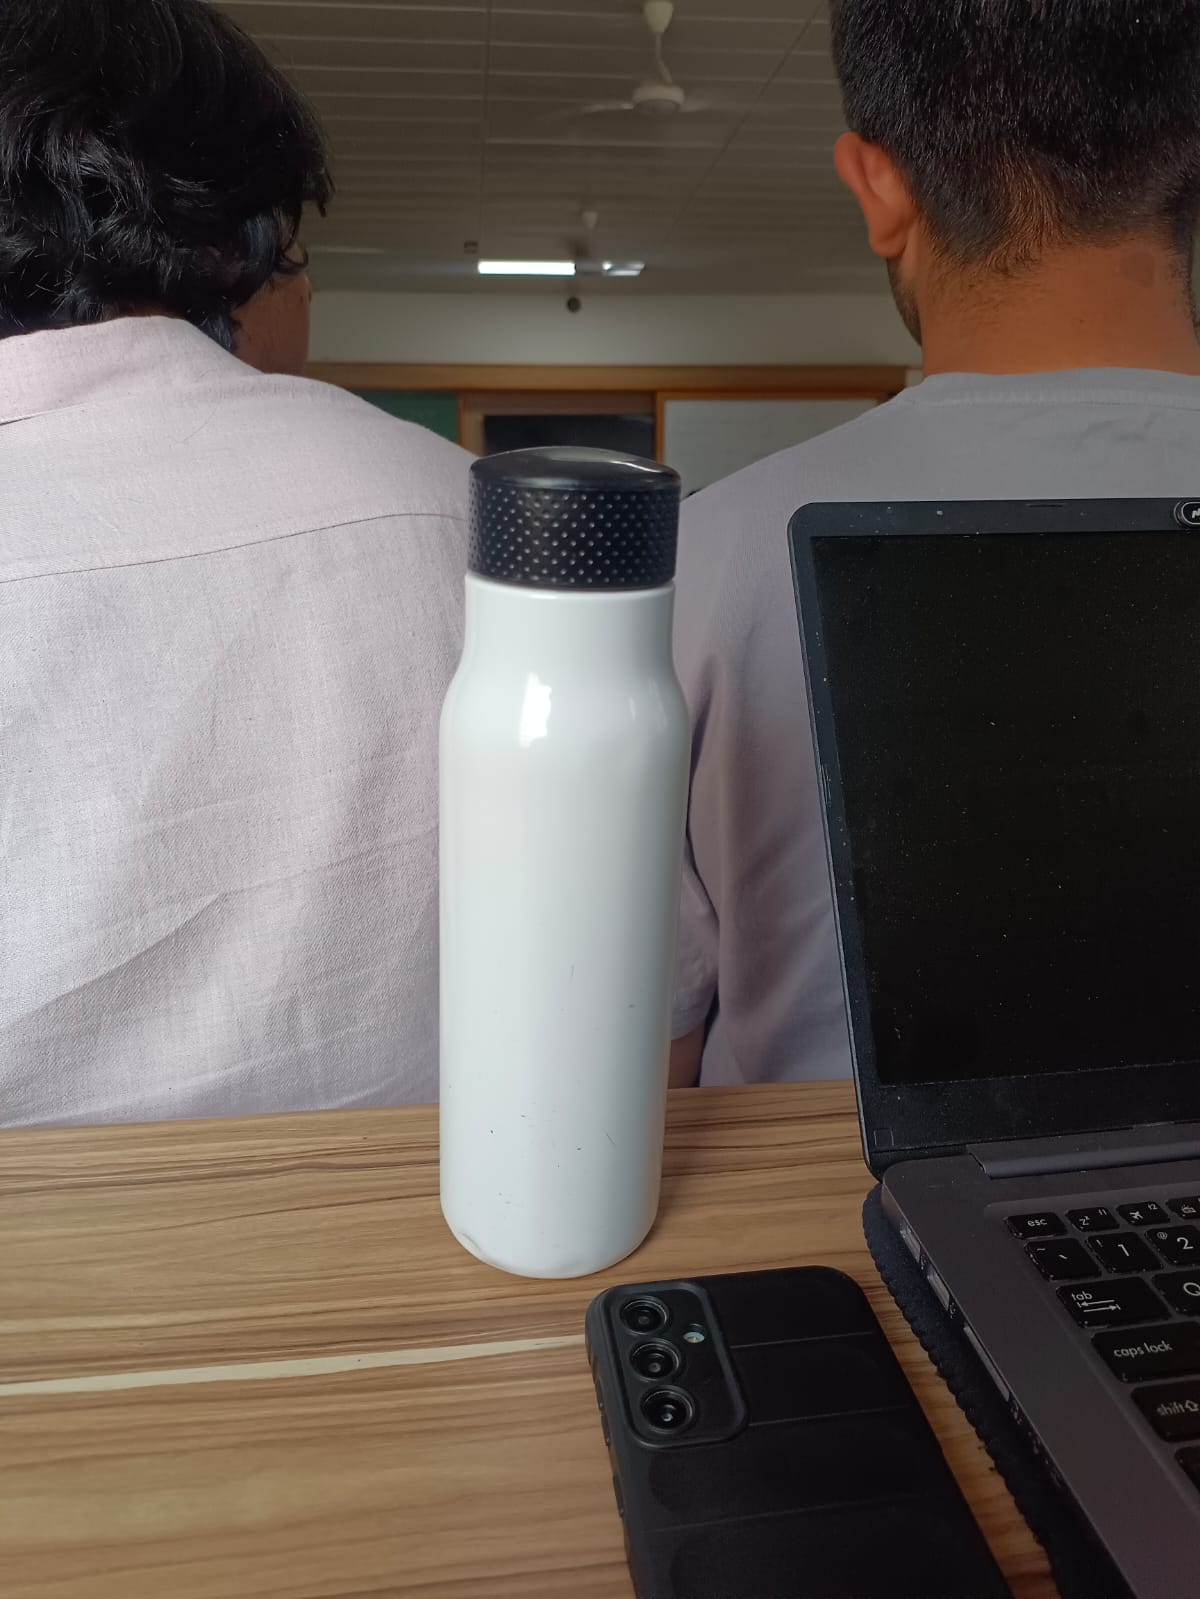bottle: (424, 437, 700, 1276)
